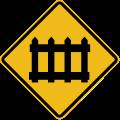Barrier Ahead: (12, 13, 115, 102)
